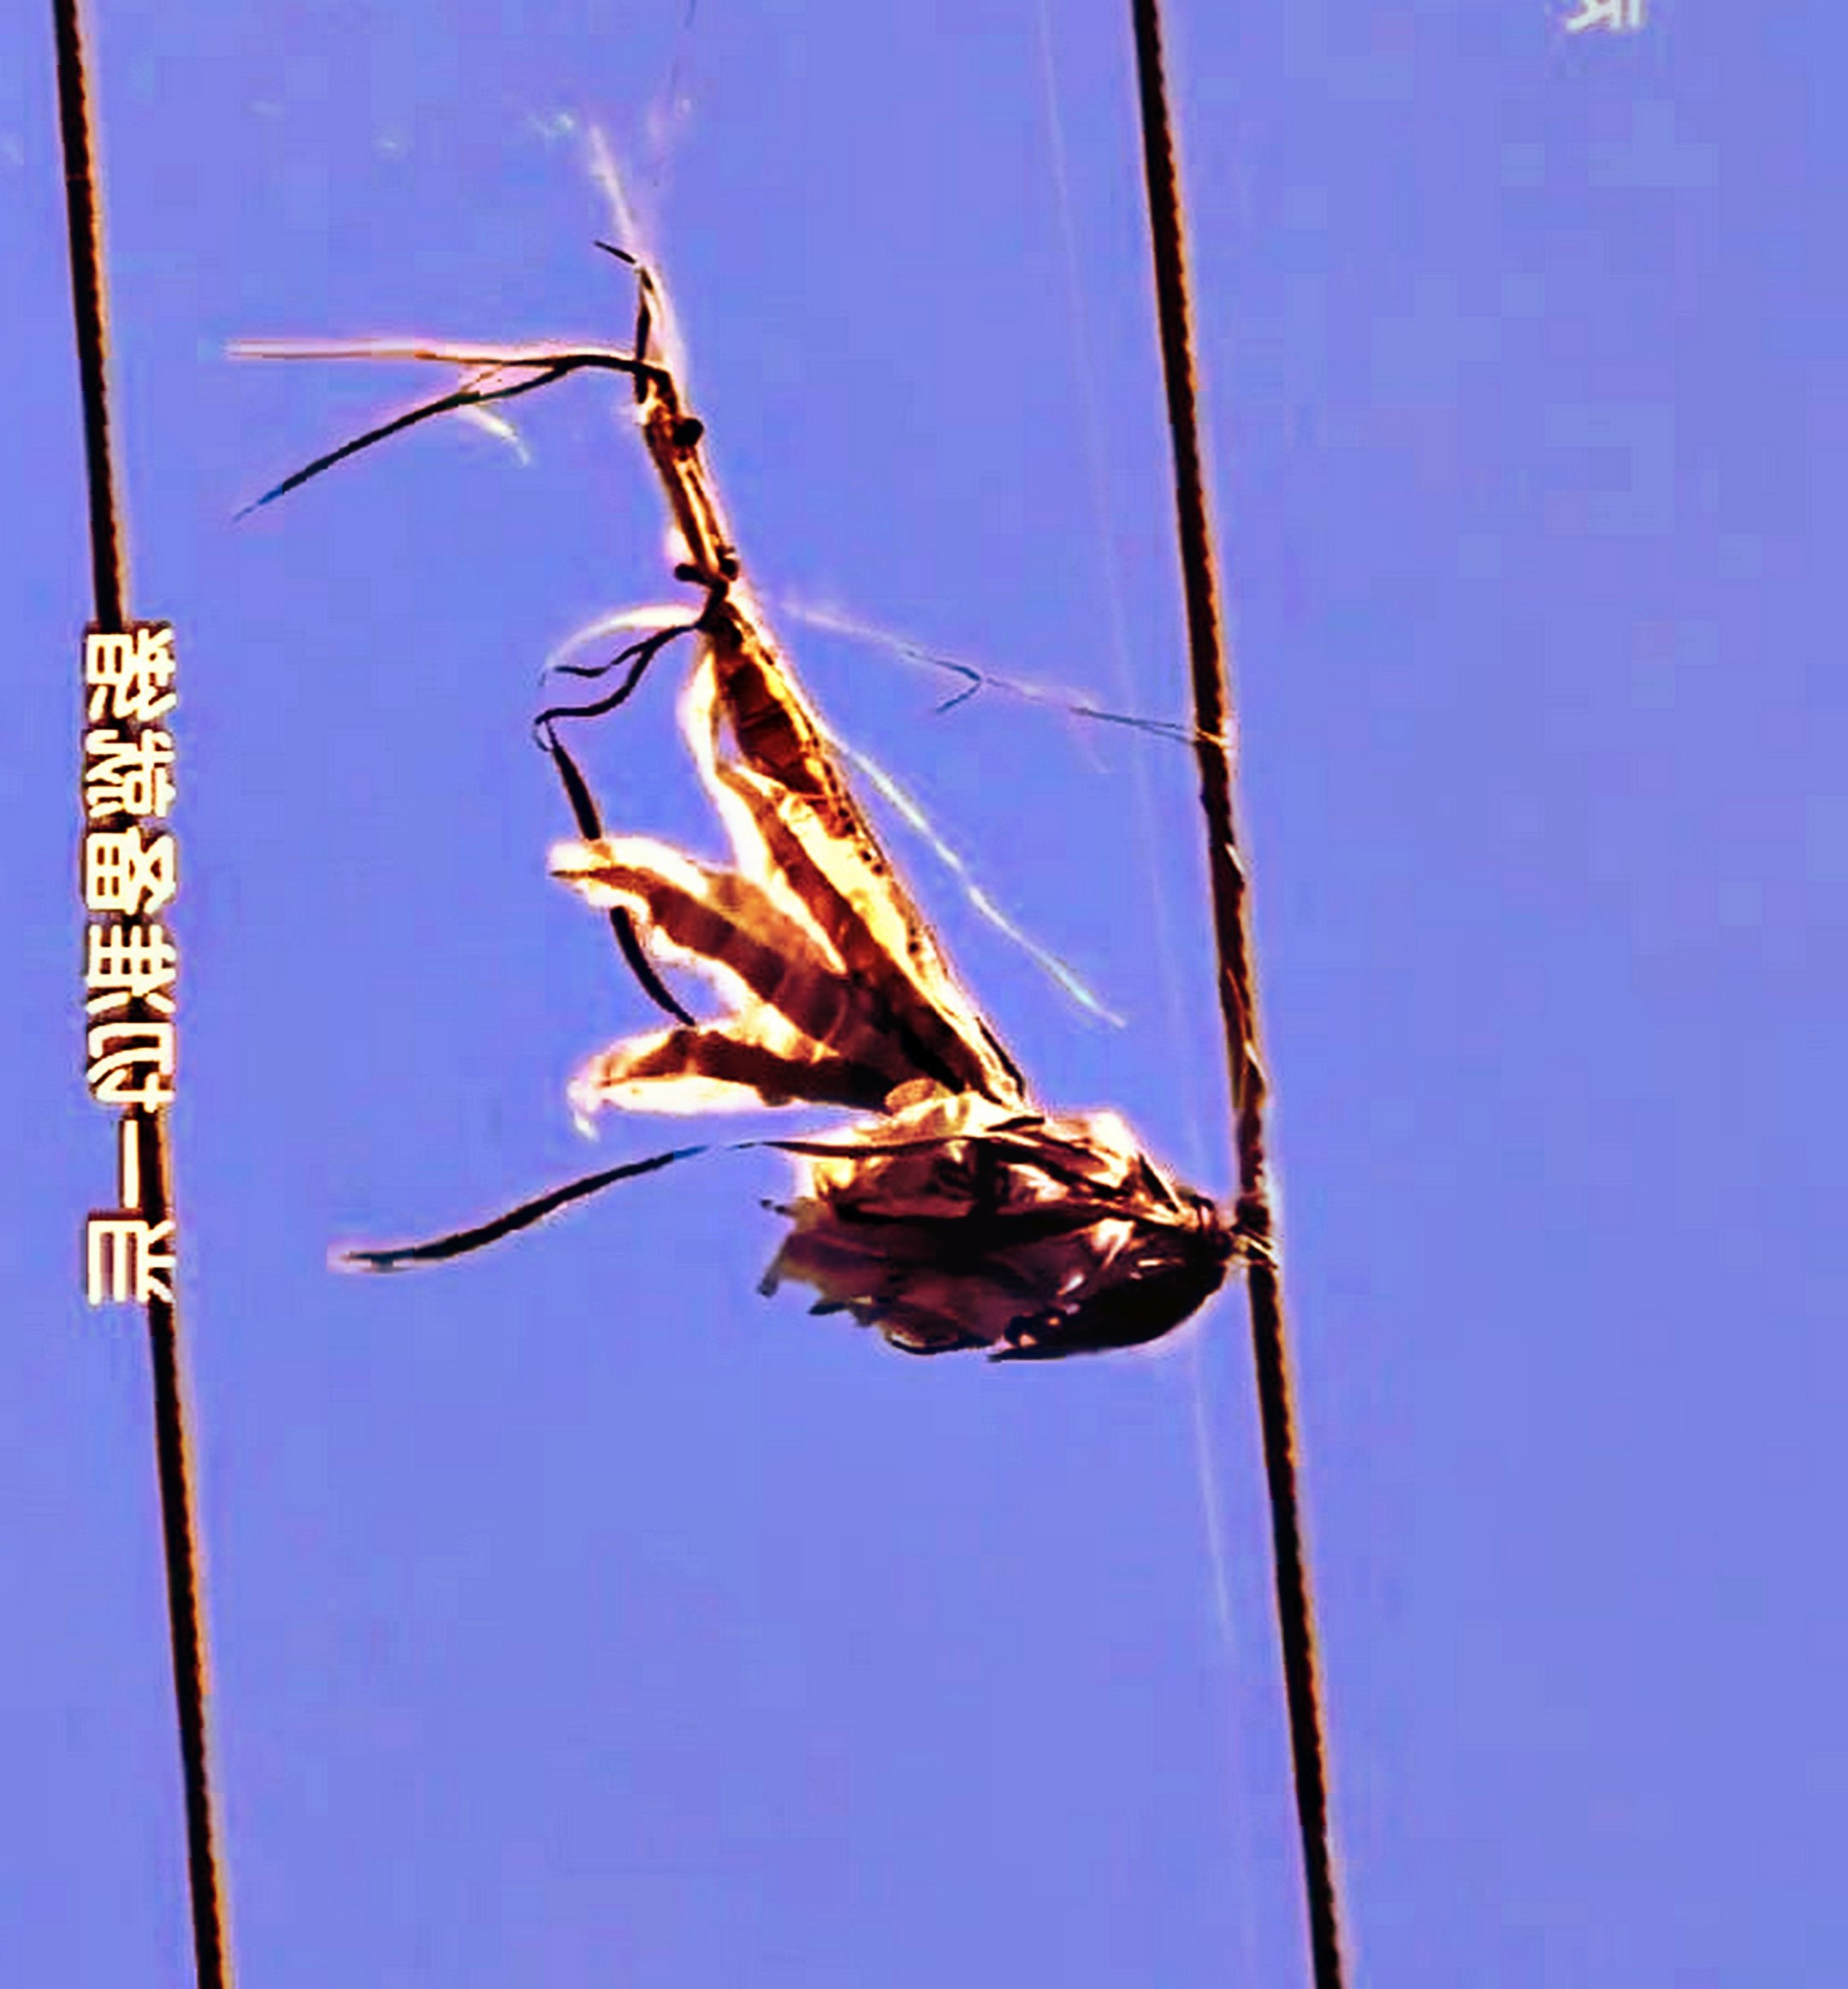wire foreign body: (519, 340, 1353, 1431)
